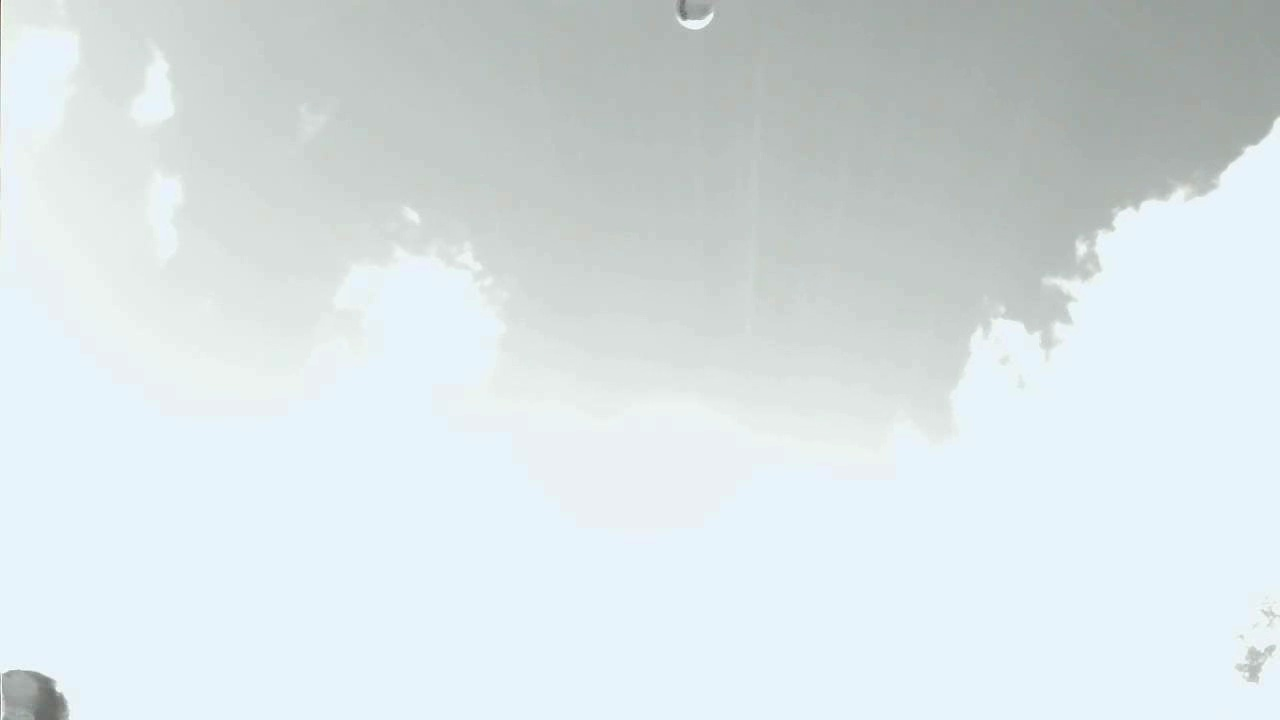Football-Spotter: (676, 0, 714, 29)
